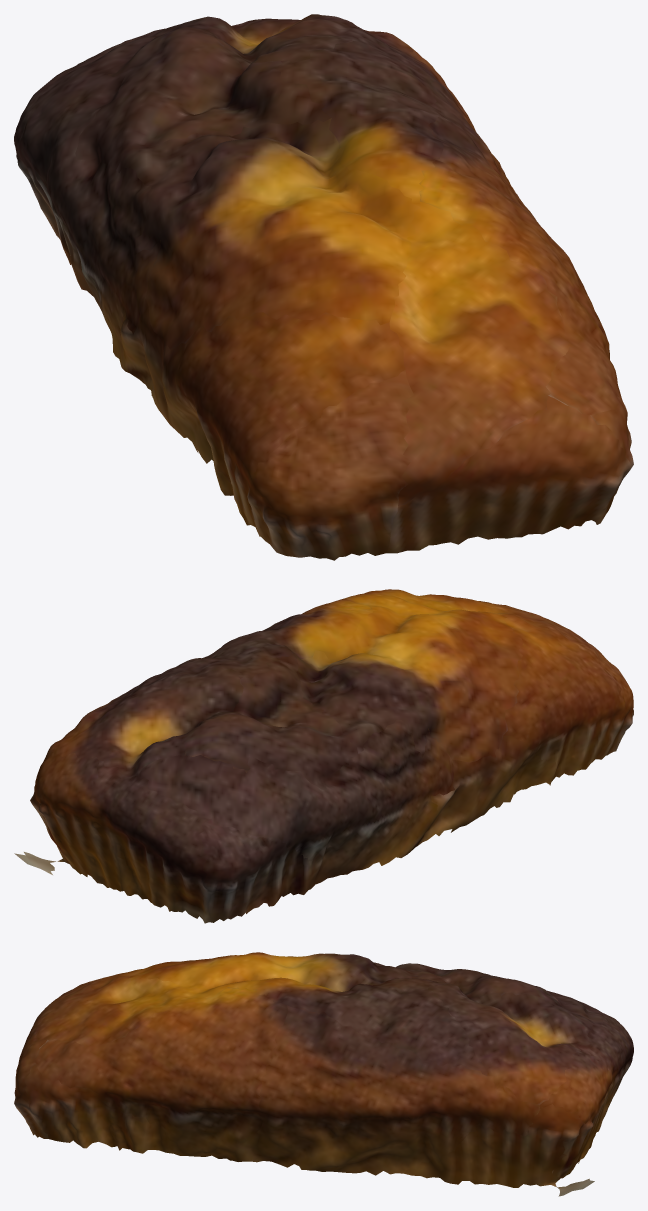
Rendered from kiri_polished_m.glb.
3 views of the same model, one above another, from view 1: azimuth 30°, elevation 25°; view 2: azimuth 150°, elevation 25°; view 3: azimuth 270°, elevation 25° (orthographic). The views are drawn at different scales.
Visible parts, largest first — view 1: normalize; view 2: normalize; view 3: normalize.
Boxes of the visible parts, x1=… form: normalize: x1=14, y1=14, x2=633, y2=560; normalize: x1=14, y1=589, x2=633, y2=923; normalize: x1=14, y1=952, x2=633, y2=1196.
Size of the model in its own units: 0.1785 by 0.0813 by 0.3.
Materials: 1 (1 with a texture image).
